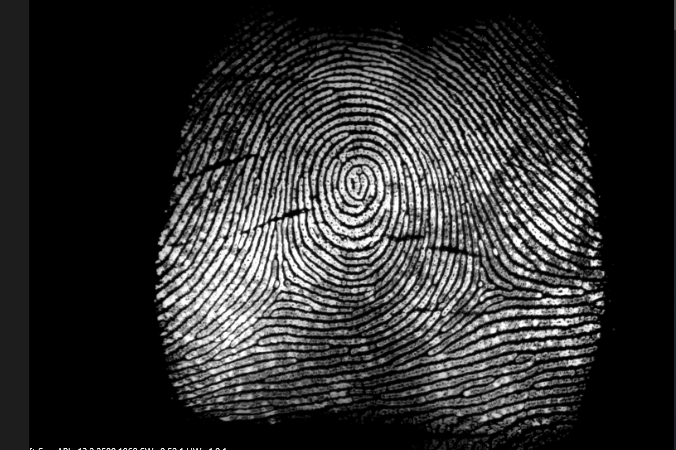deltas: (465, 257, 514, 307), (260, 264, 307, 309)
nucleo: (334, 160, 382, 204)
